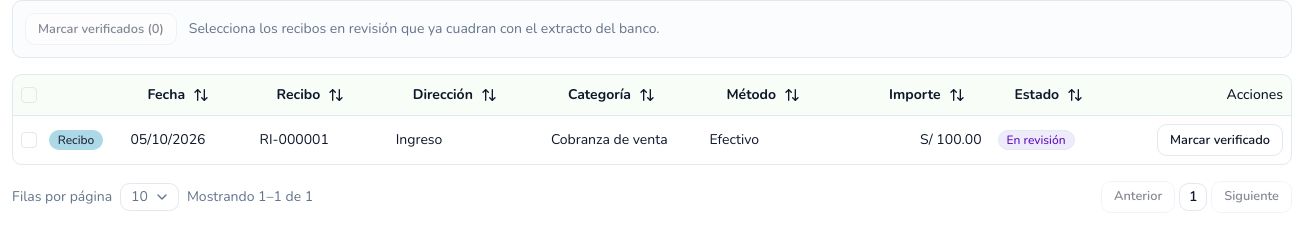
Test case: StatementTable › permite cancelar la confirmación sin marcar
Click the checkbox named "Seleccionar recibo RI-000001": (29, 140) [21,132,37,148]
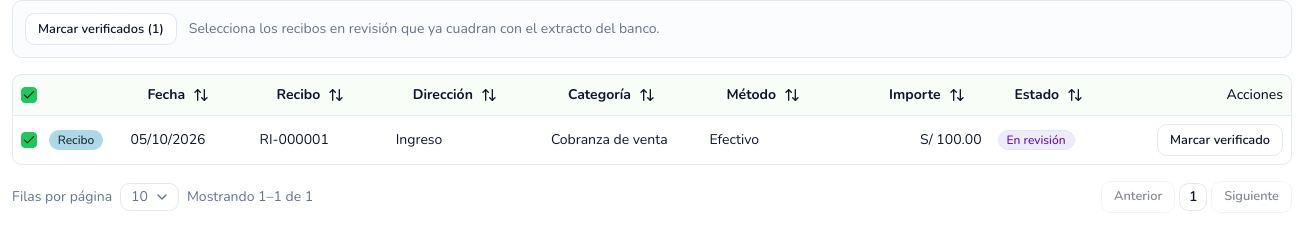
Click the button "Marcar verificados (1)": (101, 29) [25,13,177,45]
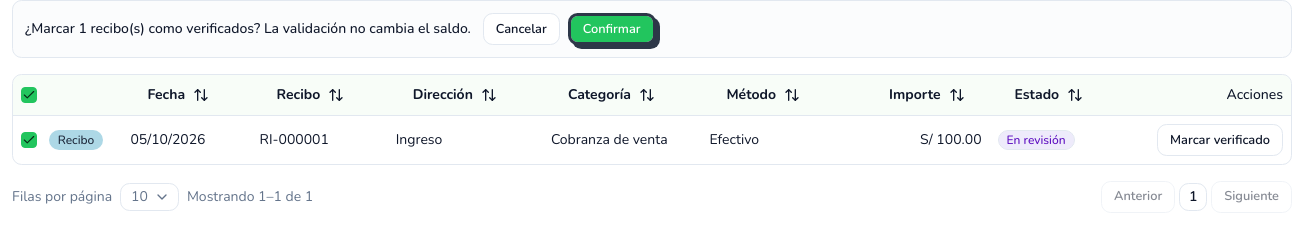
Click the button "Cancelar": (521, 29) [483,13,560,45]
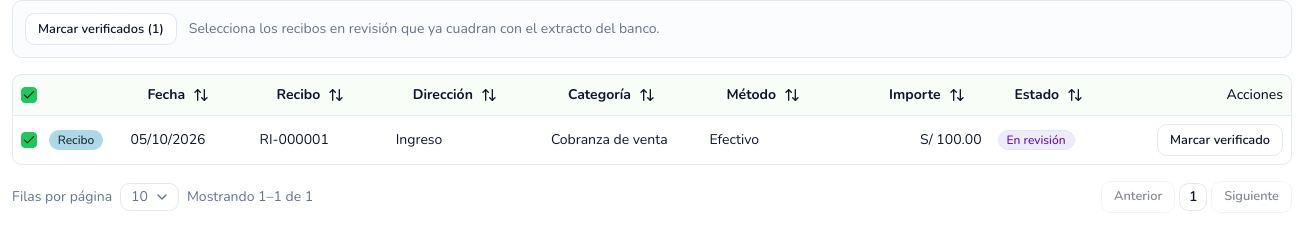
Now the button "Marcar verificados (1)" is shown, box [25,13,177,45]
